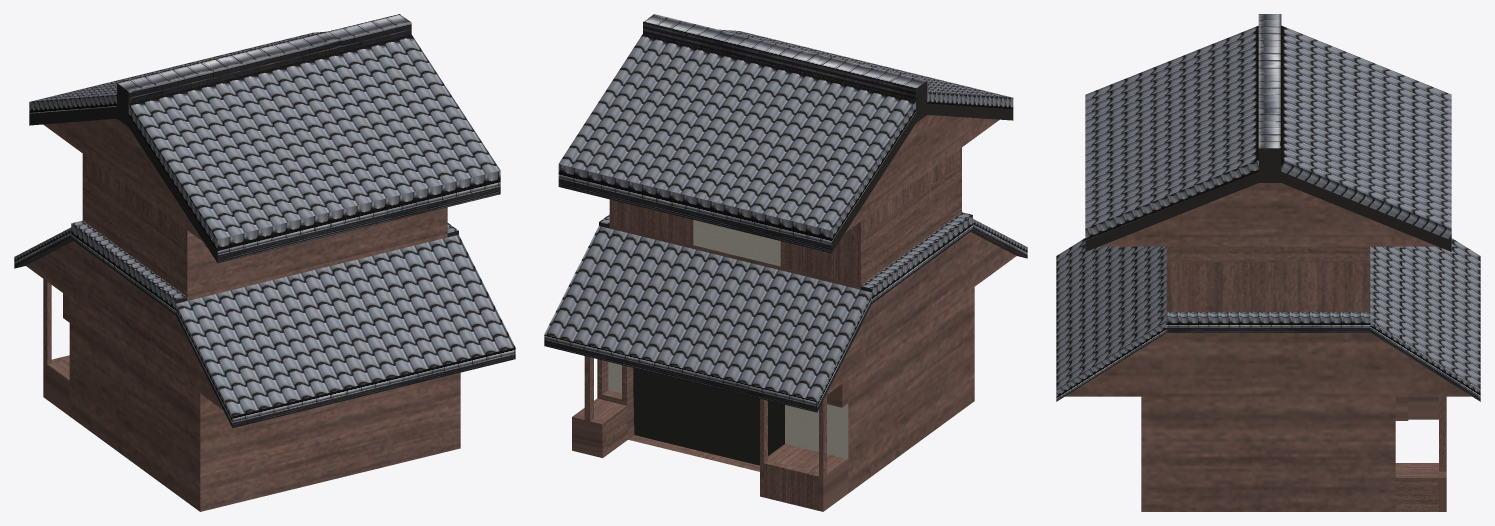
Rendered from shoka_1.fbx.
3 renders of one model, left to right at view 1: azimuth 30°, elevation 25°; view 2: azimuth 150°, elevation 25°; view 3: azimuth 270°, elevation 25°, orthographic. The views are drawn at different scales.
Parts seen in each view (by area): view 1: 立方体; view 2: 立方体; view 3: 立方体.
Boxes of the visible parts, x1,y1,x2,y2 form: 立方体: [14, 14, 515, 511]; 立方体: [544, 14, 1027, 511]; 立方体: [1056, 14, 1480, 511].
Size of the model in its own units: 25.01 by 32 by 33.37.
Materials: 4 (3 with a texture image).
